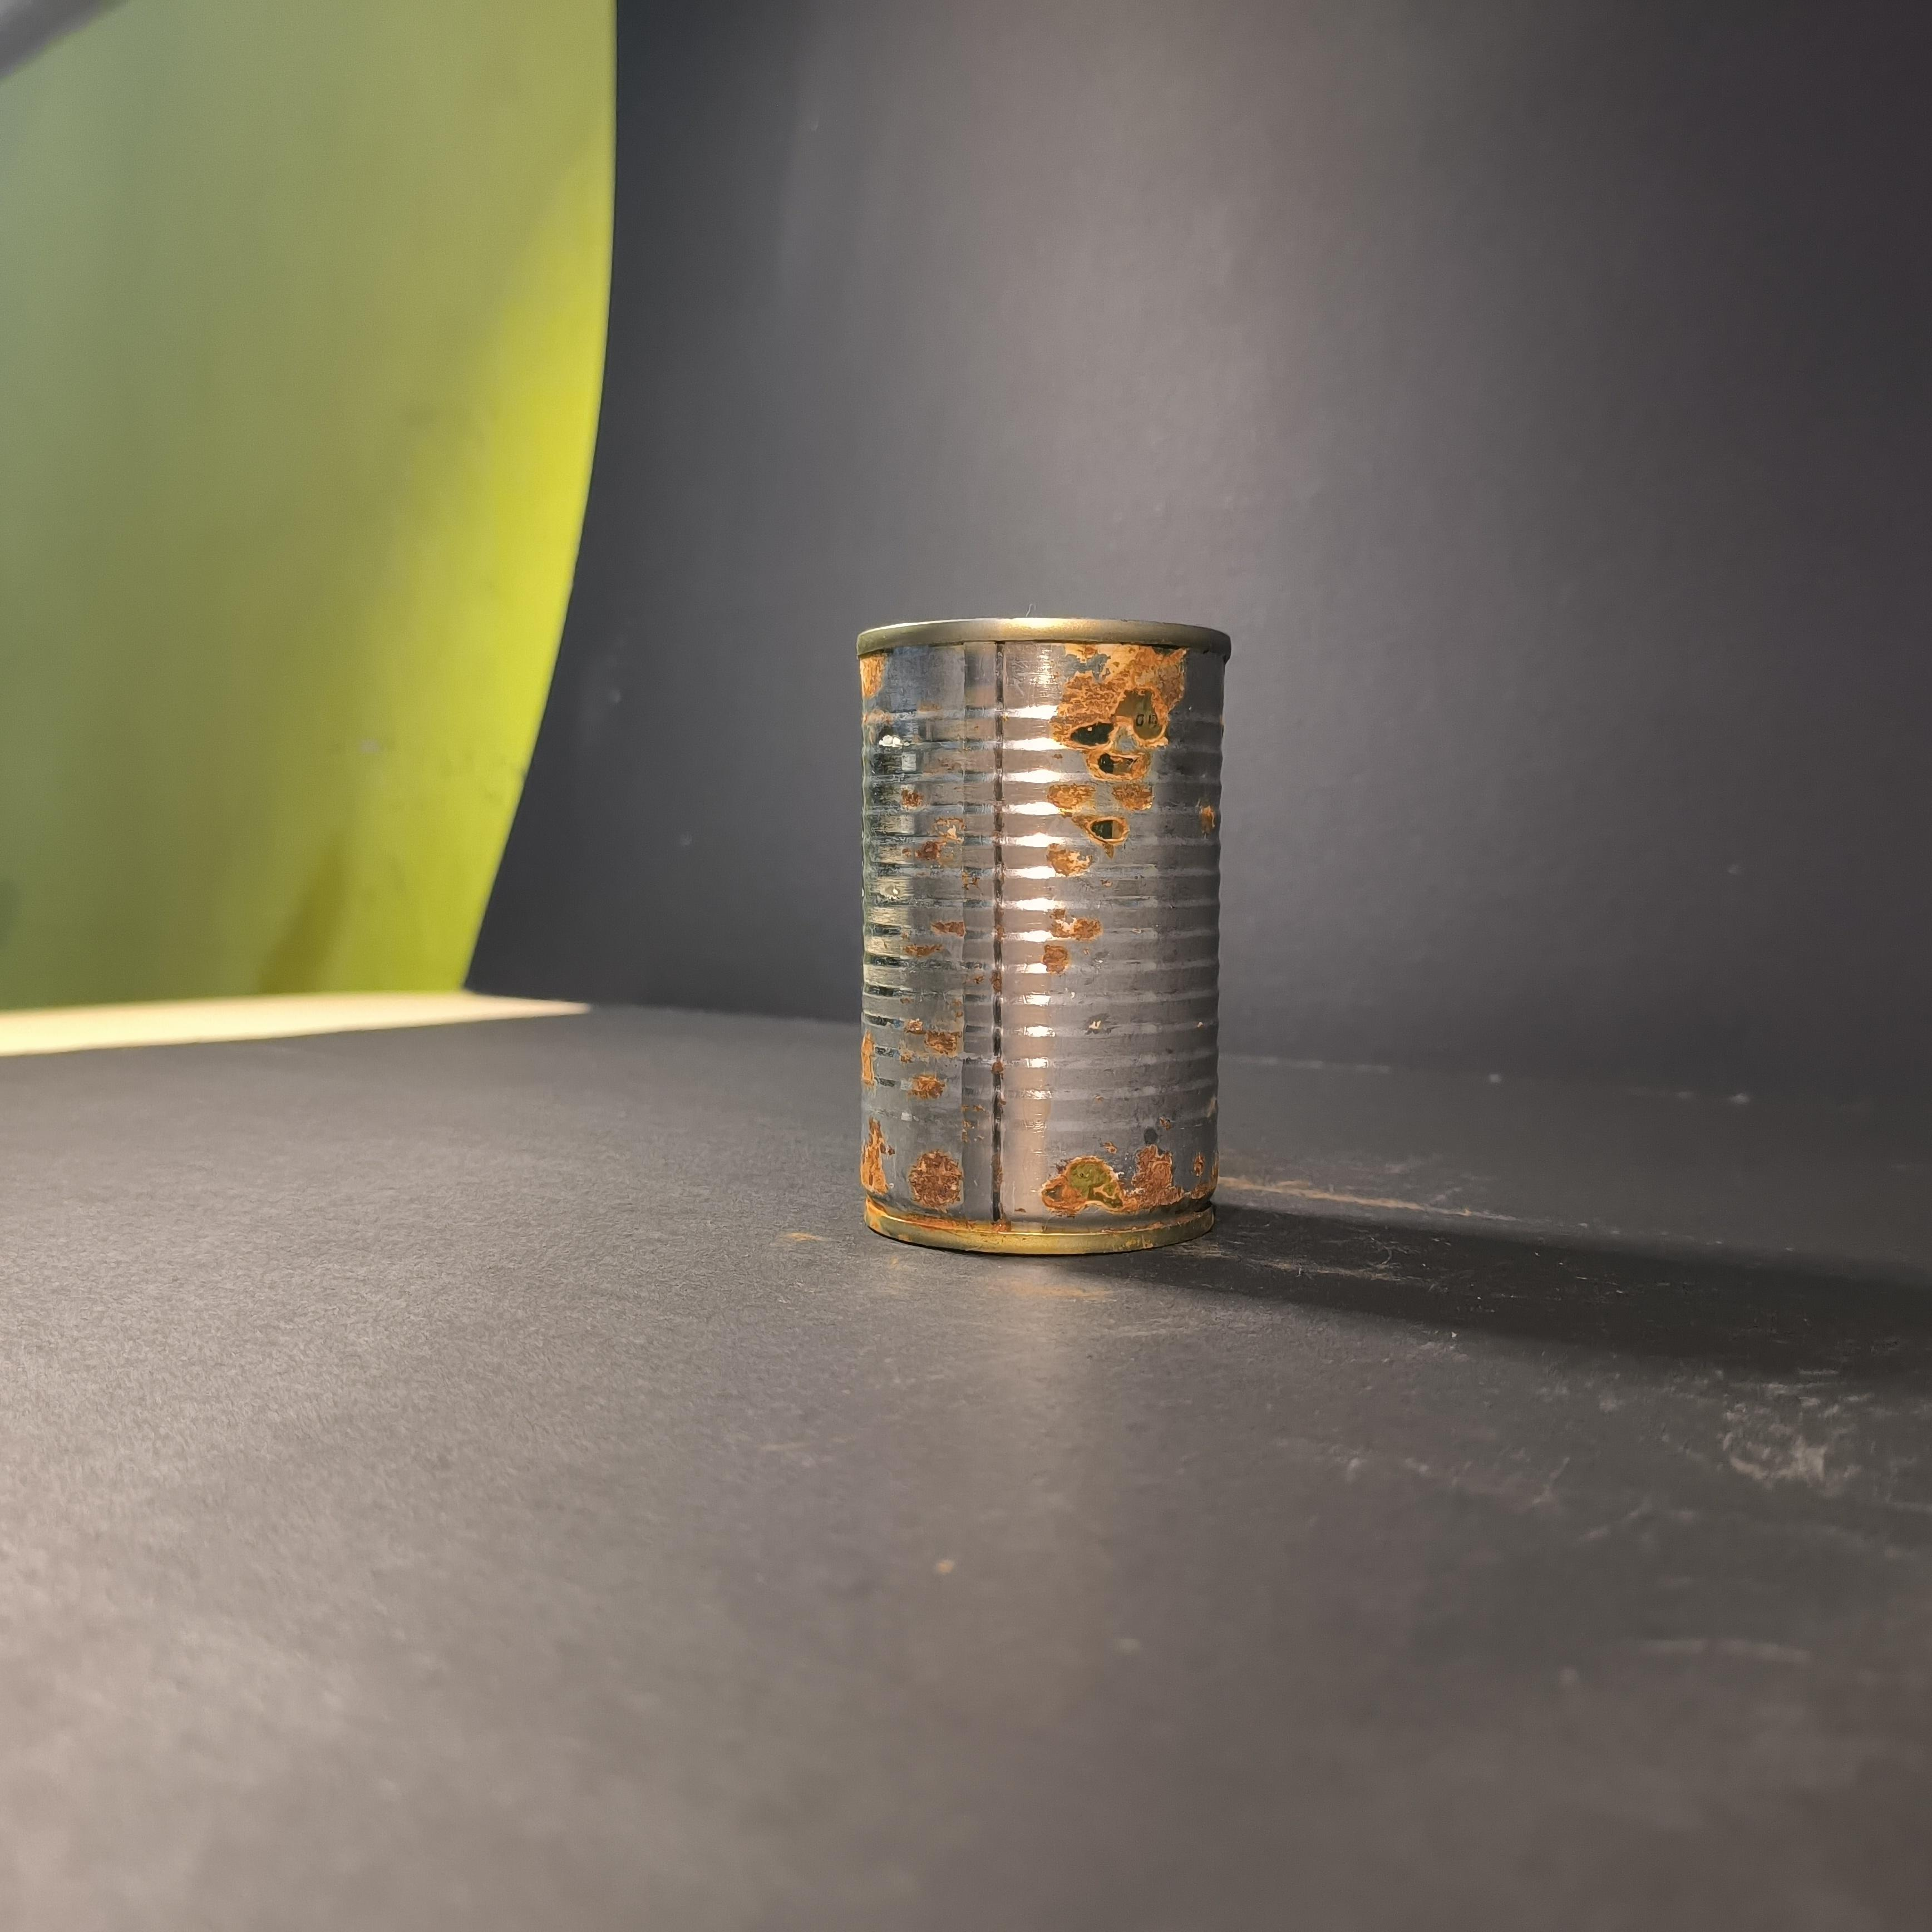Rusted: (840, 596, 1249, 1269)
